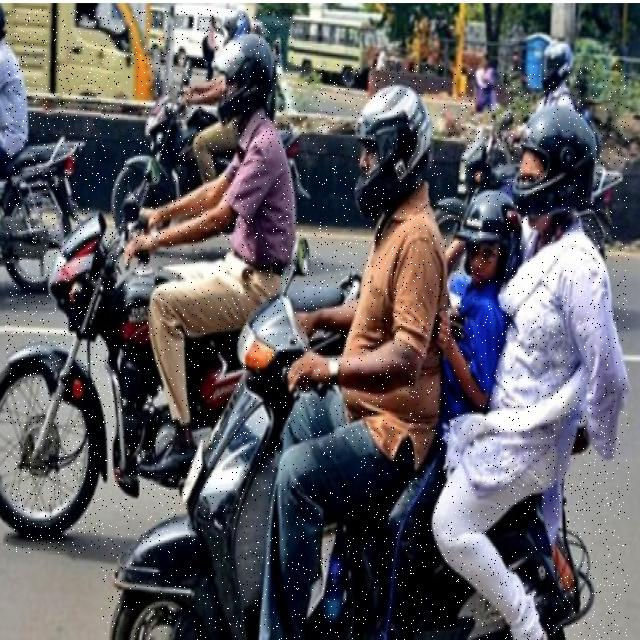With Helmet: (101, 64, 629, 640), (5, 9, 294, 554)
